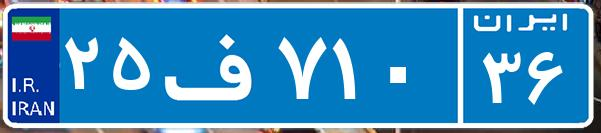0: (385, 28, 445, 110)
1: (330, 28, 385, 110)
2: (57, 26, 110, 107)
3: (475, 38, 525, 113)
5: (110, 28, 158, 105)
6: (525, 38, 570, 115)
7: (273, 28, 330, 110)
ف: (158, 15, 273, 115)
